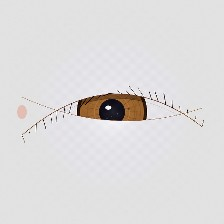hemorrhage_spot: (65, 102, 131, 155)
